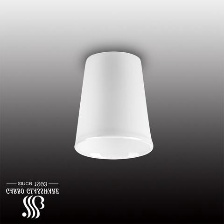glass: (70, 43, 161, 164)
